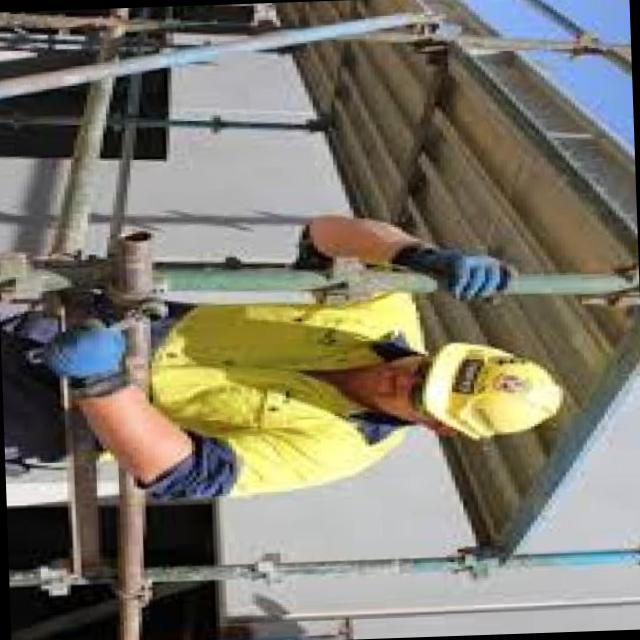gloved: (30, 313, 138, 400), (391, 241, 515, 304)
